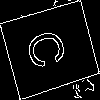C: (25, 24, 75, 72)
